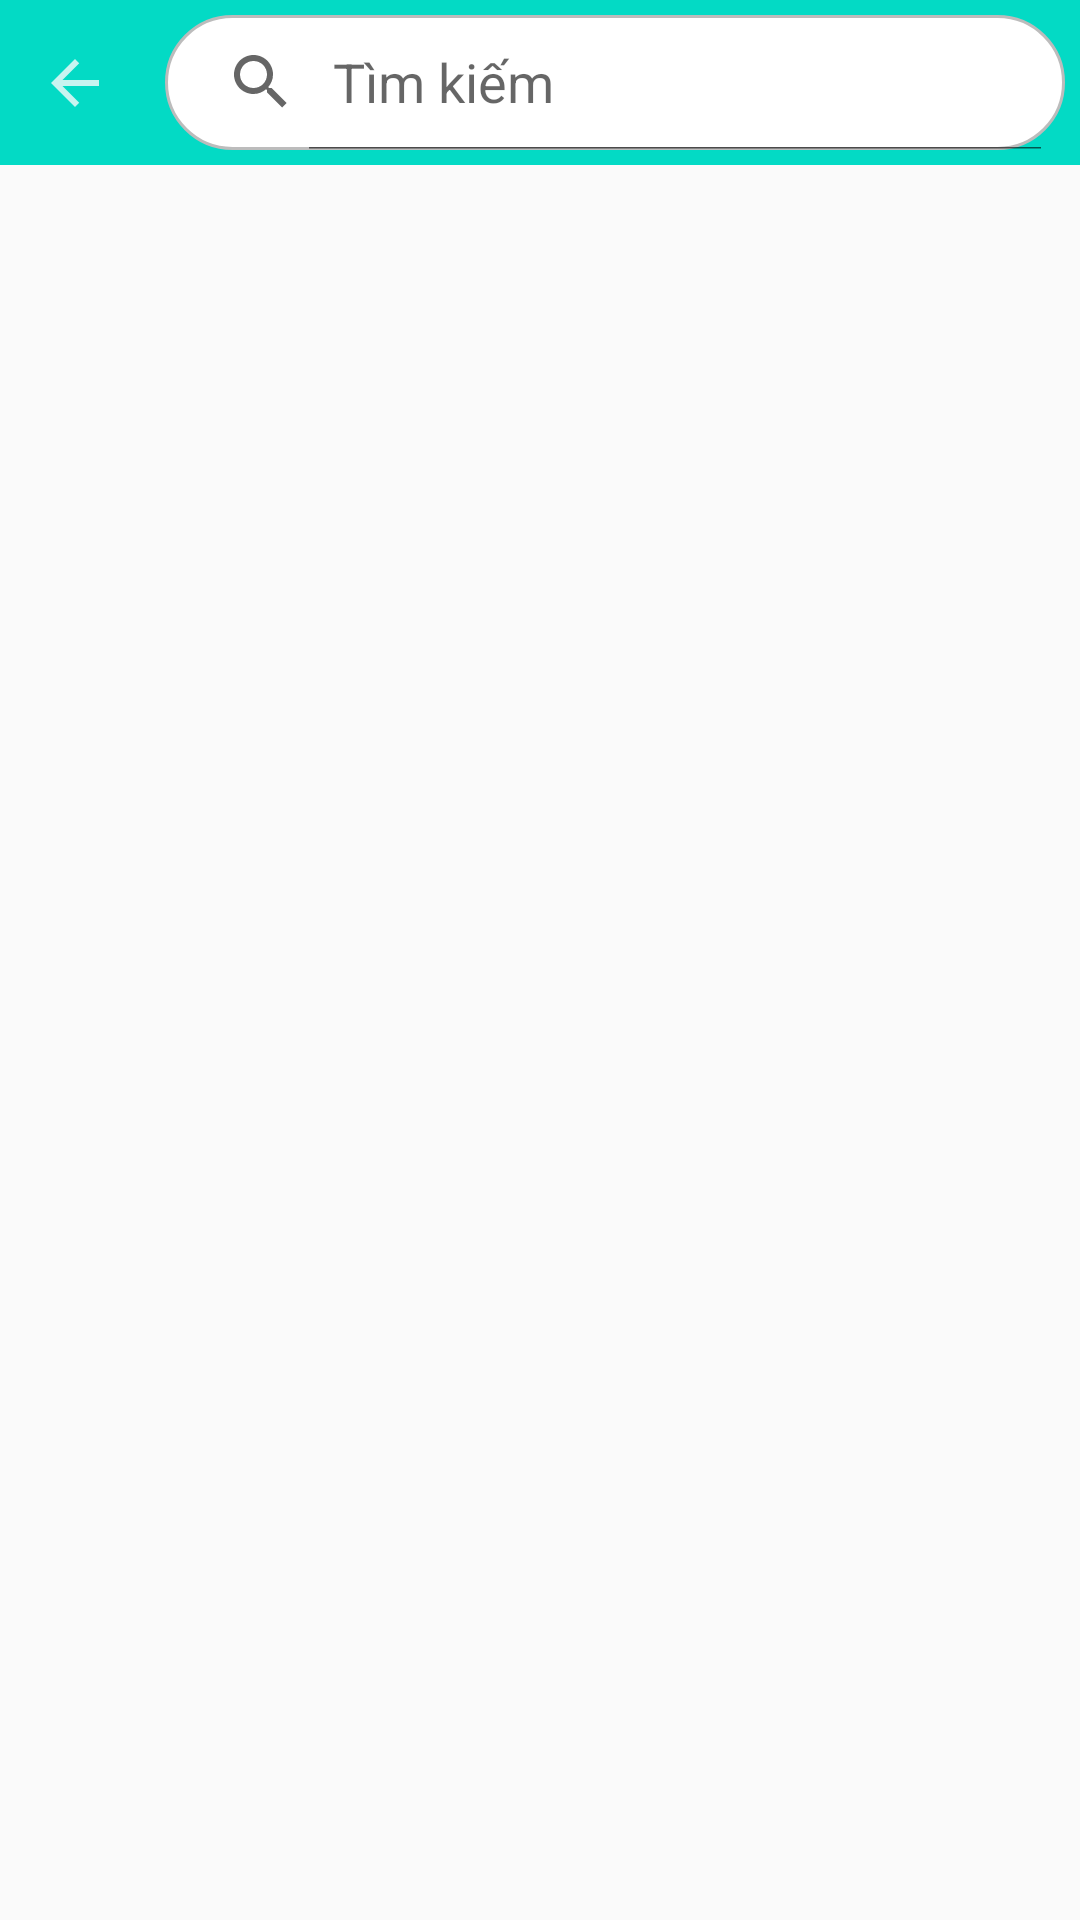

Named icons in this screenshot (1080px×1920px) and their centers, point (x, y):
back: point (75, 83)
